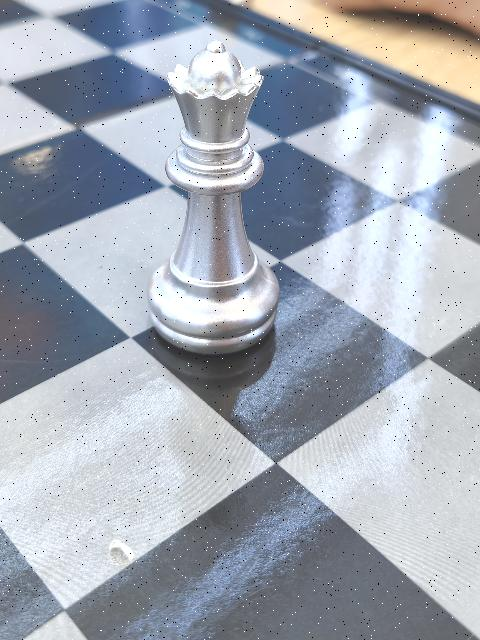white_queen: (152, 39, 274, 347)
